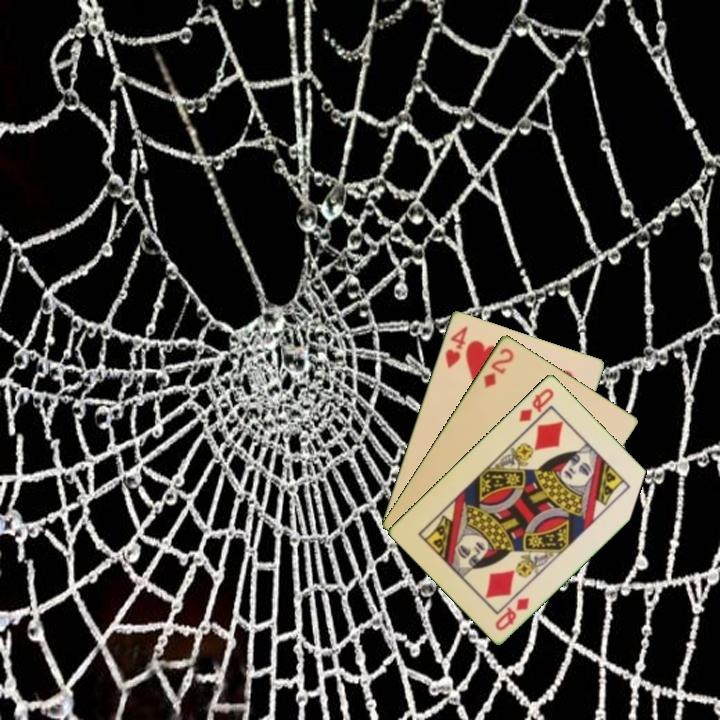2d: (480, 344, 517, 391)
4h: (441, 322, 470, 371)
Qd: (515, 384, 557, 425), (491, 593, 533, 634)
